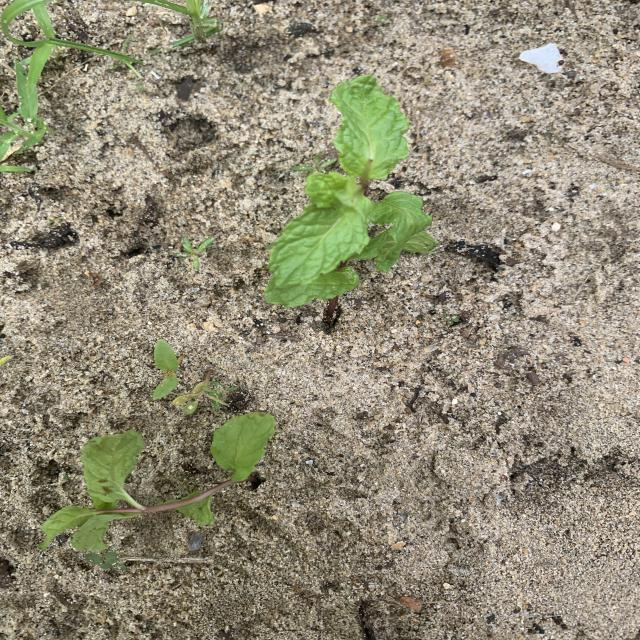crop: (267, 76, 437, 304), (41, 413, 273, 551)
weed: (1, 2, 142, 164), (132, 0, 220, 45), (172, 370, 226, 414), (154, 340, 186, 398), (174, 237, 214, 270), (86, 551, 127, 570), (293, 155, 334, 172), (443, 313, 459, 324)
